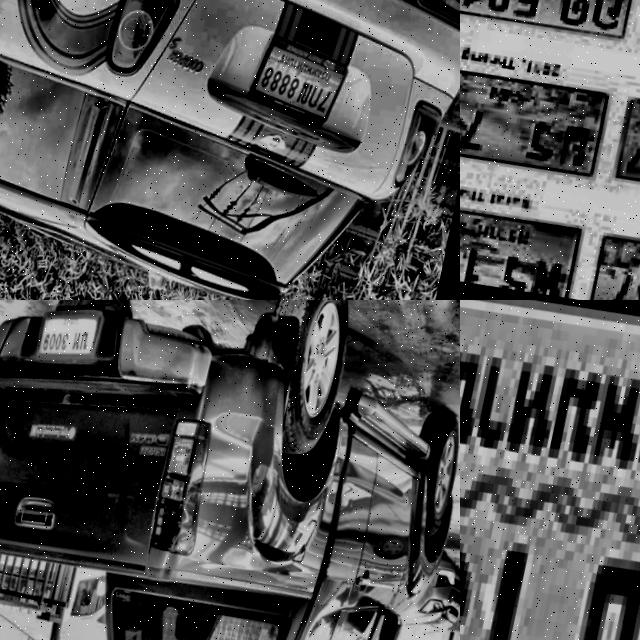license-plate: (460, 300, 640, 640), (460, 58, 611, 191), (460, 193, 582, 300), (243, 35, 352, 141), (460, 0, 640, 55), (34, 305, 102, 369)
